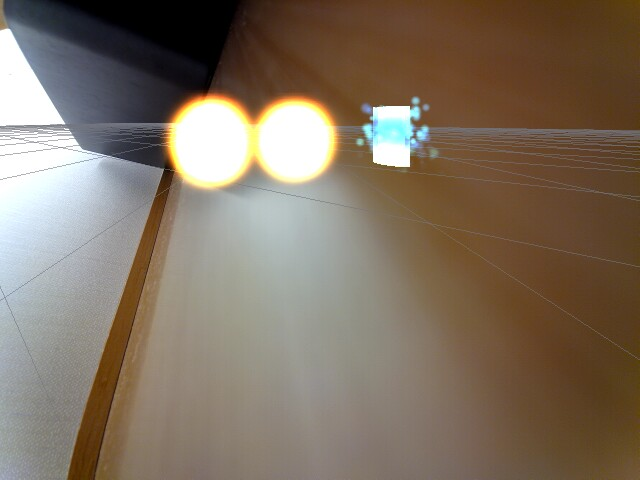firebig: (160, 88, 253, 191)
